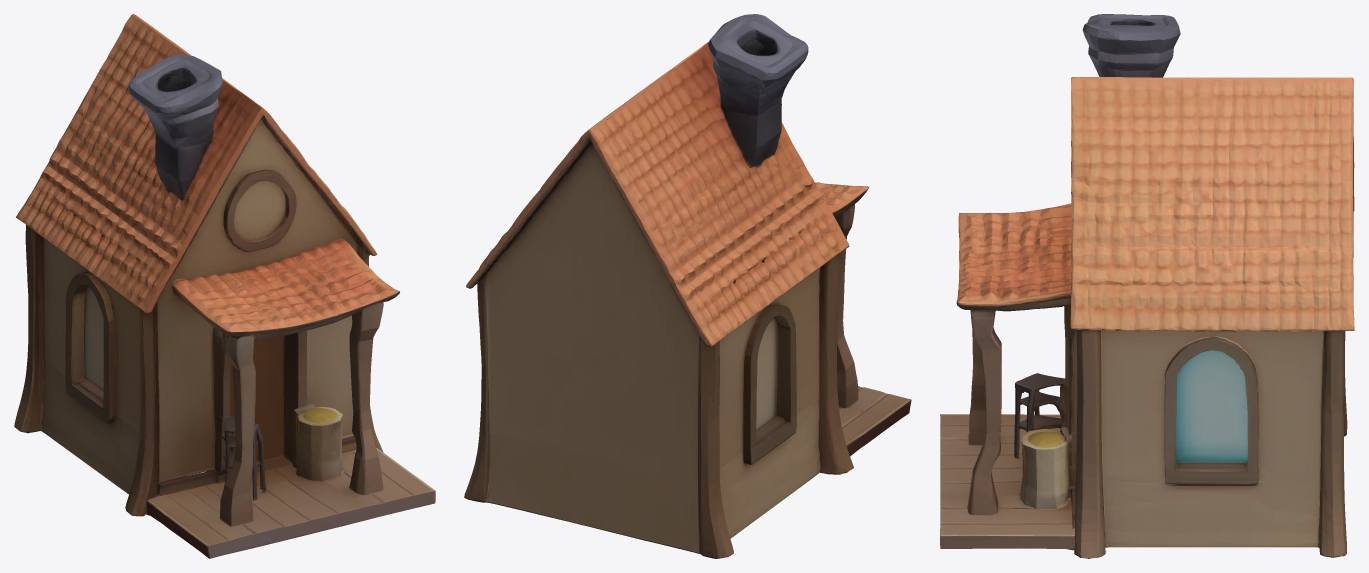
File: partflow_t04.glb
The picture shows the model from 3 angles, left to right: view 1: azimuth 30°, elevation 25°; view 2: azimuth 150°, elevation 25°; view 3: azimuth 270°, elevation 25°; orthographic projection. The views are drawn at different scales.
Parts seen in each view (by area): view 1: geometry_0; view 2: geometry_0; view 3: geometry_0.
Part boxes in pixels (x1,y1,x2,y2): geometry_0: [14, 14, 435, 558]; geometry_0: [464, 14, 911, 558]; geometry_0: [940, 14, 1354, 558].
Bounding box in the file's own units: 0.7266 × 1.13 × 0.9499.
1 material, 1 textured.
